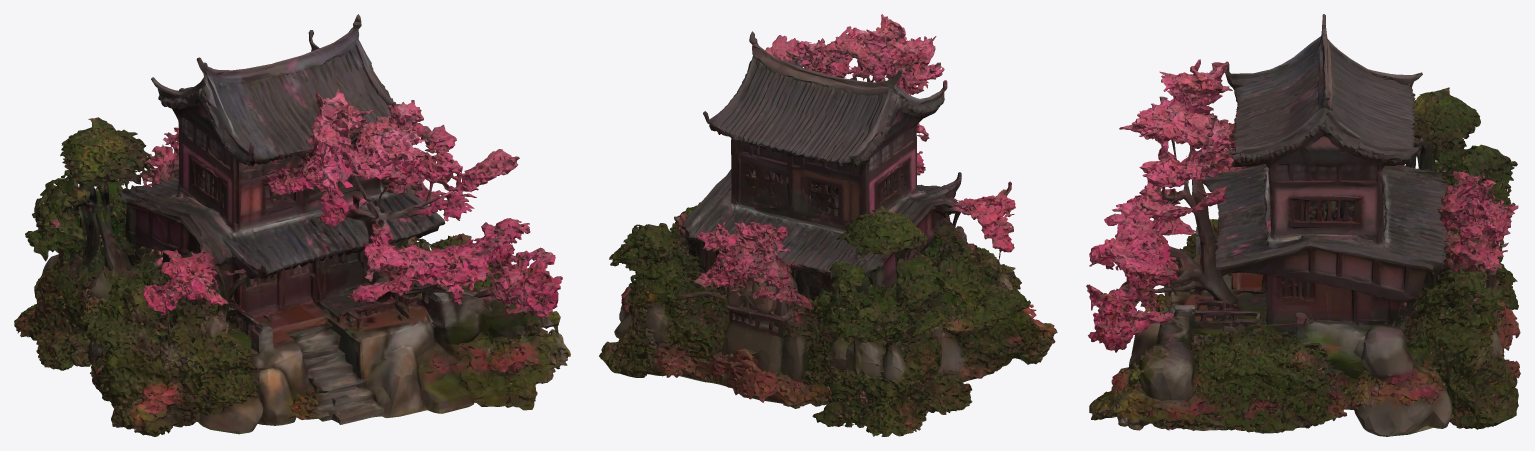
File: lib_mtn_house.hd.glb
3 views of the same model, side by side, from view 1: azimuth 30°, elevation 25°; view 2: azimuth 150°, elevation 25°; view 3: azimuth 270°, elevation 25° (orthographic). The views are drawn at different scales.
Parts seen in each view (by area): view 1: output_unwrapped; view 2: output_unwrapped; view 3: output_unwrapped.
Boxes of the visible parts, x1=… form: output_unwrapped: x1=14, y1=14, x2=570, y2=436; output_unwrapped: x1=599, y1=14, x2=1057, y2=436; output_unwrapped: x1=1086, y1=14, x2=1520, y2=436.
Bounding box in the file's own units: 2 × 1.58 × 2.
Materials: 1 (1 with a texture image).
